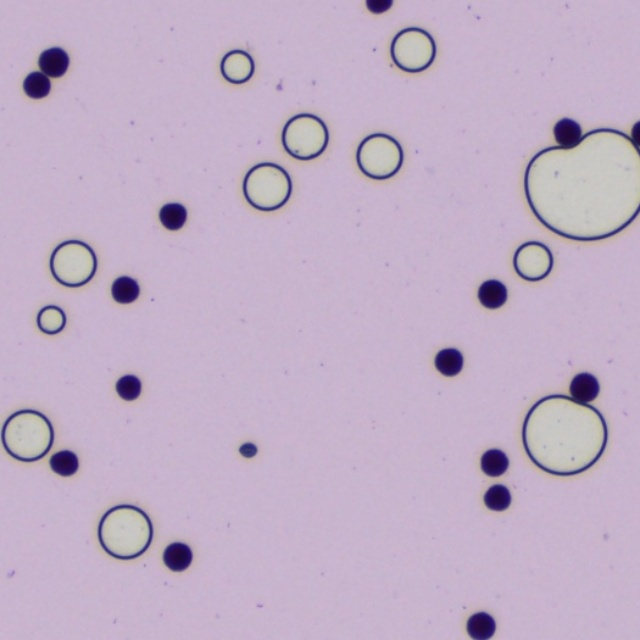non_viable: (239, 442, 256, 457)
viable: (163, 542, 192, 570), (478, 280, 506, 307), (571, 374, 597, 403), (467, 612, 495, 638), (481, 449, 507, 476), (435, 349, 462, 375), (555, 119, 580, 147), (40, 49, 66, 75), (112, 277, 138, 302), (160, 203, 185, 229), (116, 375, 140, 399), (51, 451, 76, 474), (25, 74, 48, 96), (485, 486, 508, 508), (366, 0, 391, 12), (633, 122, 640, 143)
